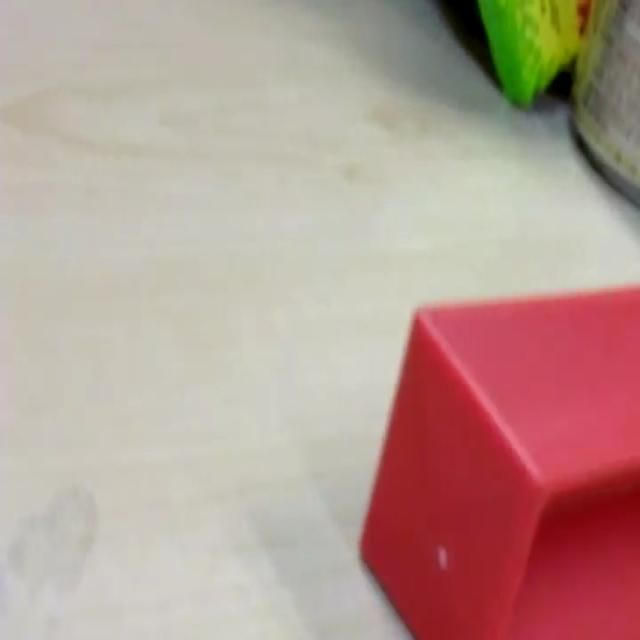red_block: (358, 280, 638, 637)
